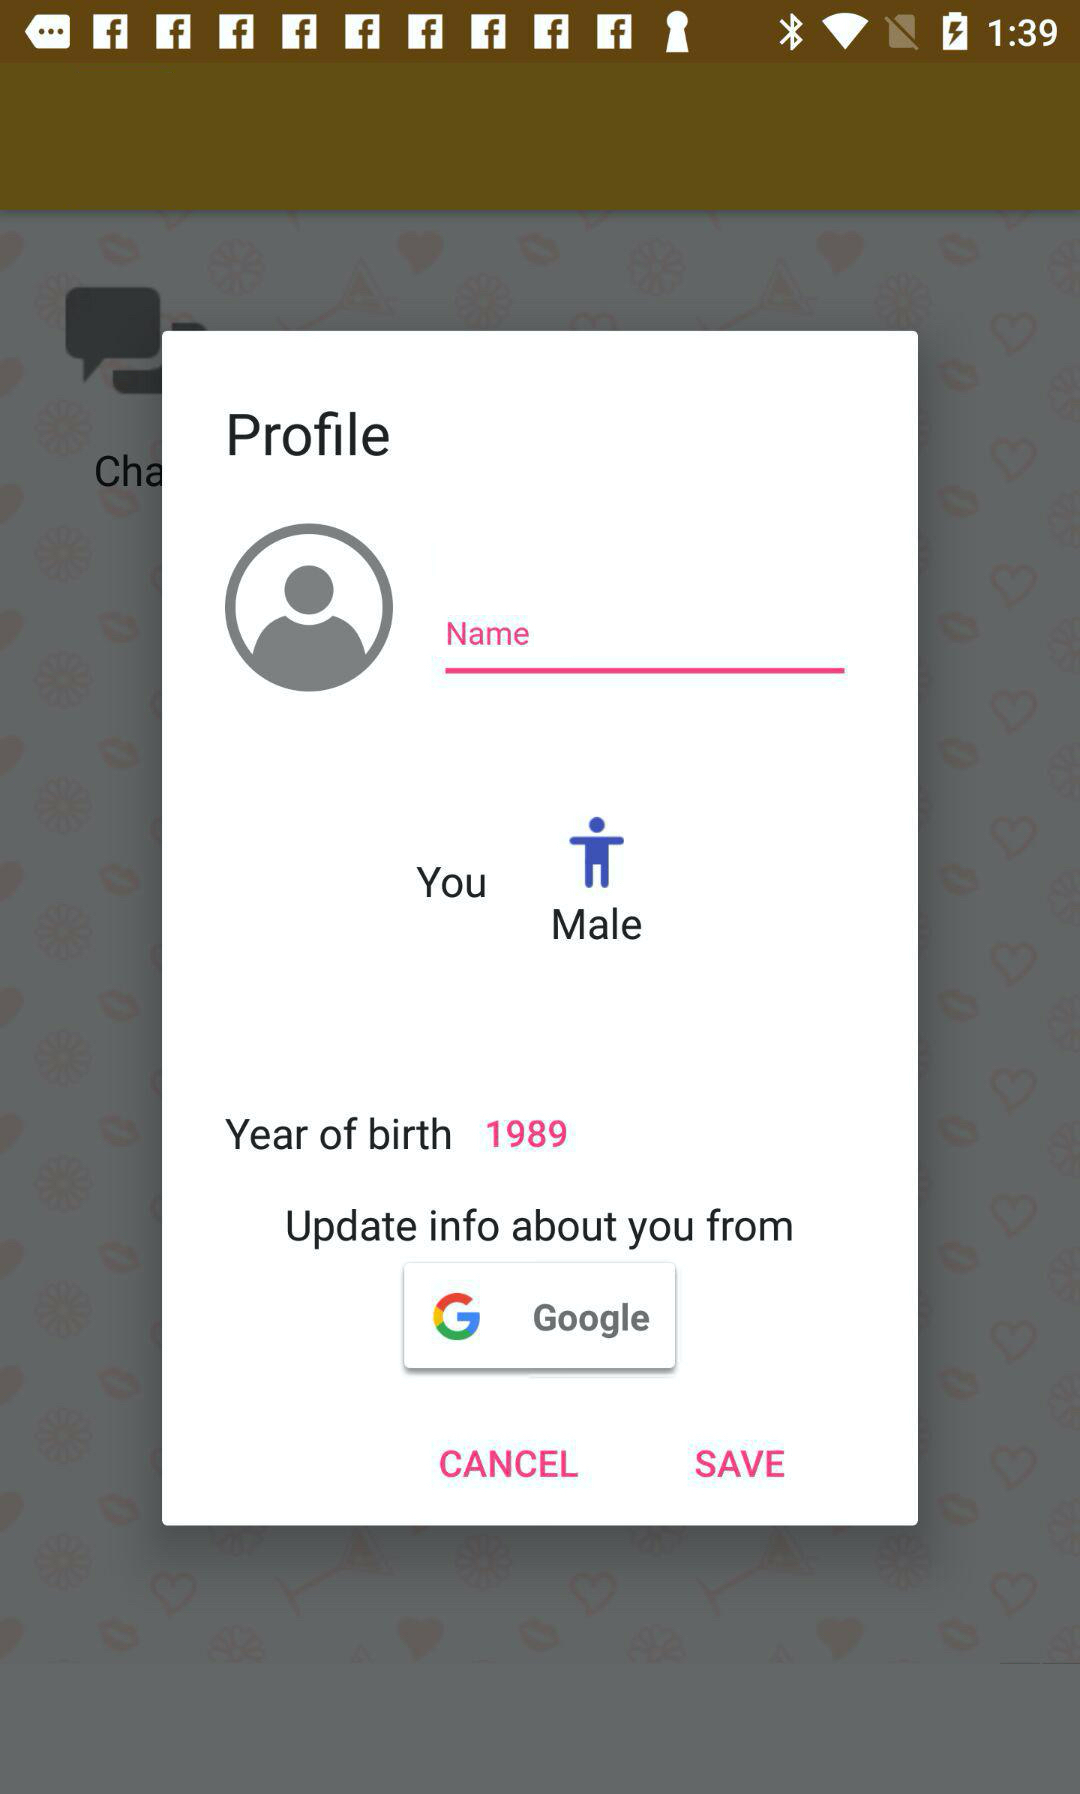EditText: (445, 621, 846, 677)
Icon: (225, 524, 395, 692)
Image: (569, 818, 625, 888)
Modal: (161, 332, 919, 1526)
Text: (286, 1208, 793, 1249), (229, 410, 389, 457), (225, 1117, 452, 1151), (439, 1449, 578, 1477), (553, 906, 642, 941), (694, 1449, 784, 1479), (486, 1119, 568, 1148), (416, 868, 487, 900), (448, 621, 530, 648)
TextButton: (404, 1262, 676, 1369)
UpperTaskBar: (1, 1, 1080, 64)
